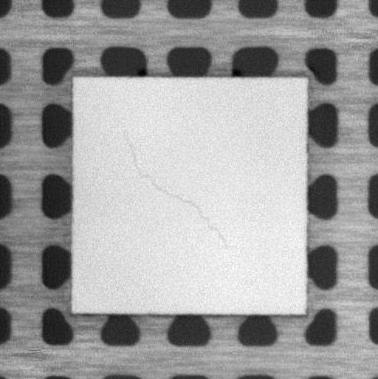DIE_CRACK: (122, 129, 228, 249)
